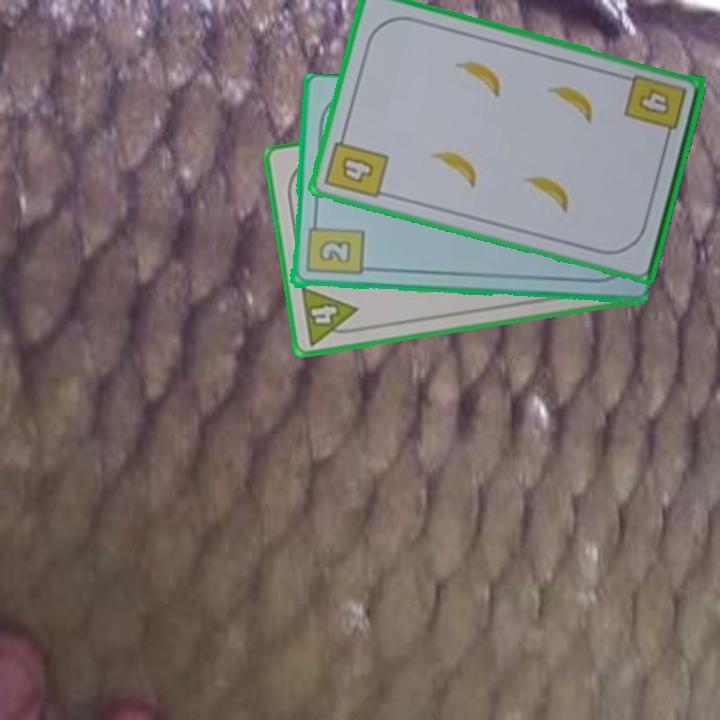2b: (302, 215, 365, 279)
4b: (321, 127, 392, 202), (621, 71, 689, 145)
4p: (297, 283, 363, 348)
